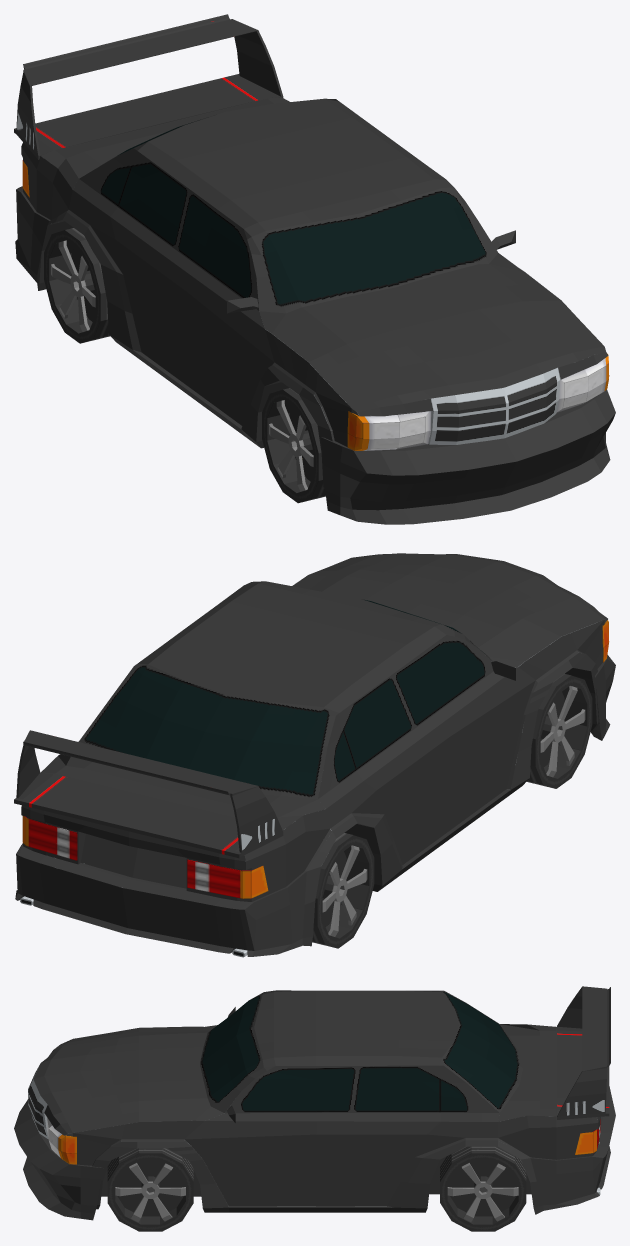
File: body1v17.fbx
3 views of the same model, one above another, from view 1: azimuth 30°, elevation 25°; view 2: azimuth 150°, elevation 25°; view 3: azimuth 270°, elevation 25° (orthographic). The views are drawn at different scales.
Parts seen in each view (by area): view 1: body, frontbumper, spoiler, rightback, rightfront, frontlights; view 2: body, spoiler, rightfront, rightback, backlight, frontbumper; view 3: body, spoiler, Leftback, Leftfront, frontbumper, frontlights, backlight.
Boxes of the visible parts, x1,y1,x2,y2 form: body: (15,97,608,488); frontbumper: (320,389,615,524); spoiler: (14,14,283,159); rightback: (44,228,109,343); rightfront: (262,388,325,503); frontlights: (347,354,609,450); body: (15,553,607,956); spoiler: (14,730,283,858); rightfront: (526,674,592,788); rightback: (312,833,374,948); backlight: (22,816,268,898); frontbumper: (590,654,615,740); body: (28,990,615,1214); spoiler: (557,986,610,1119); Leftback: (440,1146,526,1231); Leftfront: (107,1148,193,1231); frontbumper: (14,1099,103,1220); frontlights: (47,1118,76,1164); backlight: (575,1119,600,1154).
Bounding box in the file's own units: 221 × 151 × 523.
9 materials, 9 textured.
